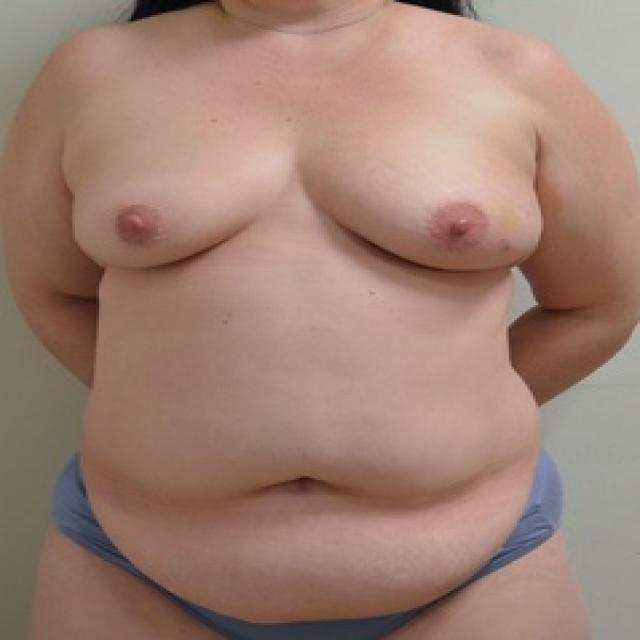Seno ileso: (298, 125, 553, 287), (64, 125, 294, 283)
